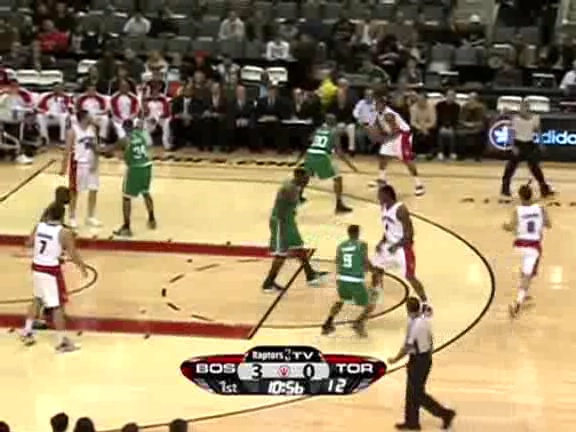person: (334, 233, 368, 314), (333, 233, 367, 314), (335, 233, 369, 314), (334, 232, 368, 313), (334, 234, 368, 315)
target_negative: (204, 148, 287, 281), (436, 234, 514, 341), (459, 185, 552, 274), (71, 105, 253, 135), (23, 420, 129, 428), (556, 292, 568, 335)
